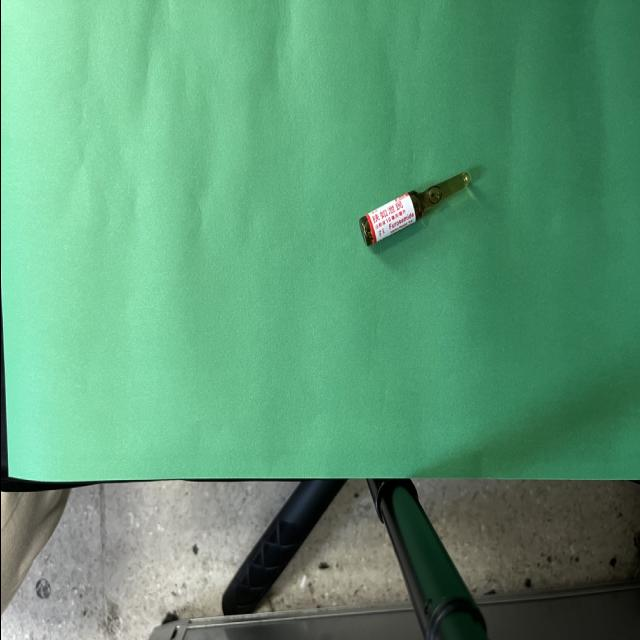Ampoules: (358, 173, 469, 247)
